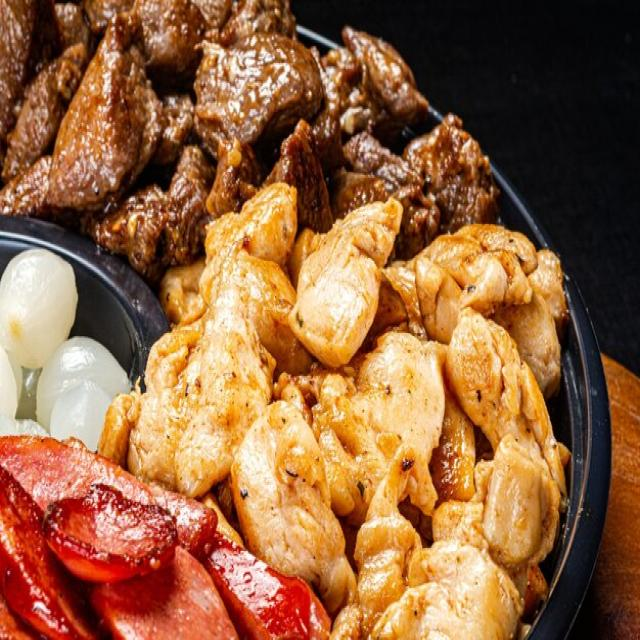Frango: (0, 0, 576, 640)
